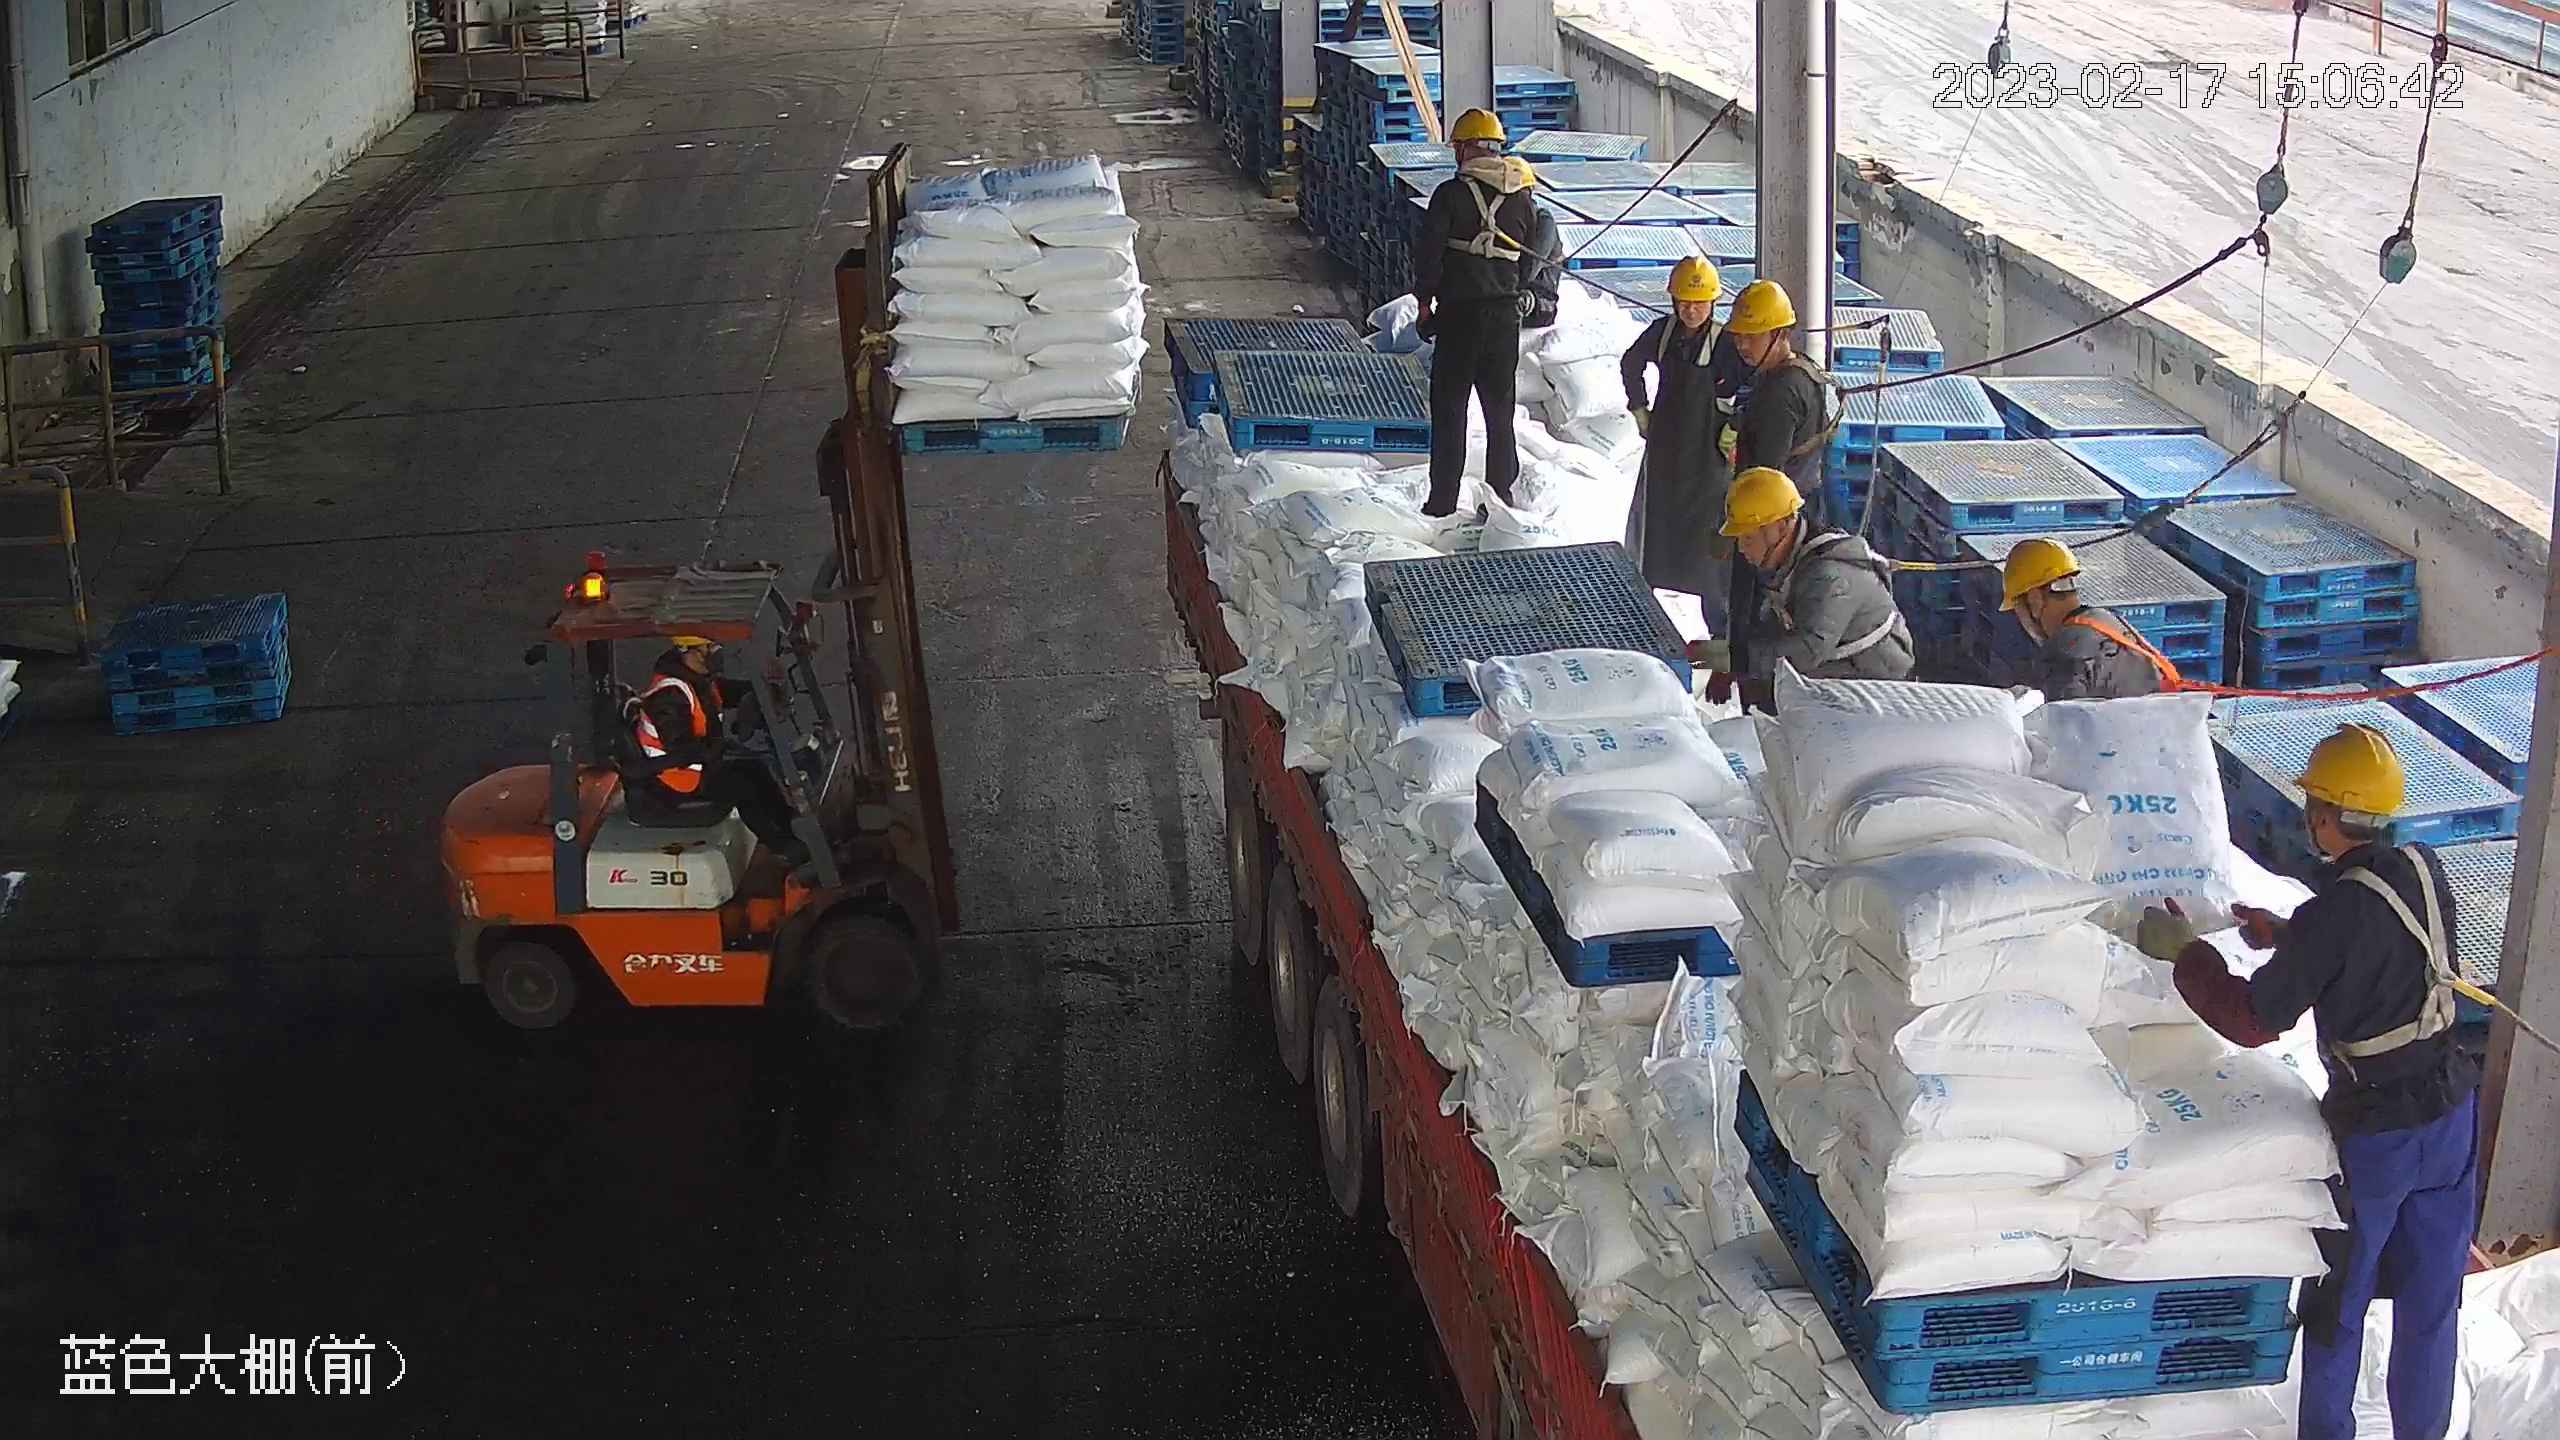belt: (2331, 846, 2497, 1055), (1766, 533, 1905, 659), (2076, 609, 2211, 698), (1439, 173, 1534, 269), (1780, 347, 1860, 456), (1655, 312, 1723, 376)
head: (2227, 721, 2456, 943), (2000, 536, 2180, 692), (1719, 465, 1882, 630), (1729, 275, 1830, 417), (1623, 256, 1733, 365), (1428, 108, 1531, 223)
helmet: (2293, 723, 2409, 818), (2001, 538, 2080, 614), (1719, 468, 1805, 537), (1729, 277, 1796, 334), (1668, 255, 1723, 301), (1445, 108, 1507, 141)
people: (2139, 722, 2483, 1440), (1408, 106, 1527, 518), (1727, 276, 1829, 727), (1619, 257, 1736, 637), (627, 637, 813, 866)
truck: (1156, 401, 2560, 1440)
